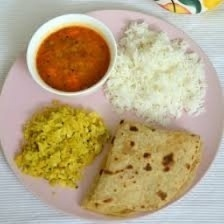rice: (108, 20, 206, 114)
